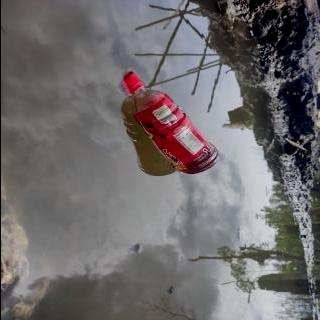bottle: (118, 68, 222, 177)
